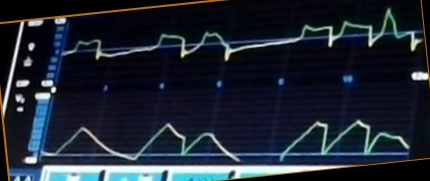Double_Triggering Flow: (68, 7, 422, 63)
Double_Triggering Volume: (66, 108, 410, 162)
